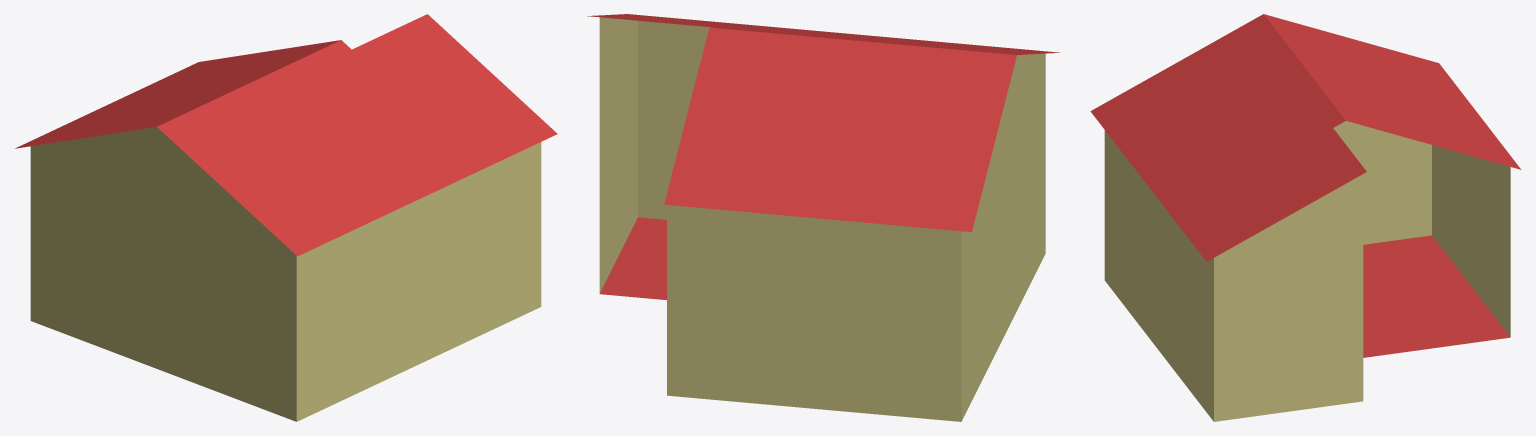
3 views of the same model, side by side, from view 1: azimuth 30°, elevation 25°; view 2: azimuth 150°, elevation 25°; view 3: azimuth 270°, elevation 25° (orthographic). The views are drawn at different scales.
Bounding box in the file's own units: 20.65 × 18.93 × 11.6.
